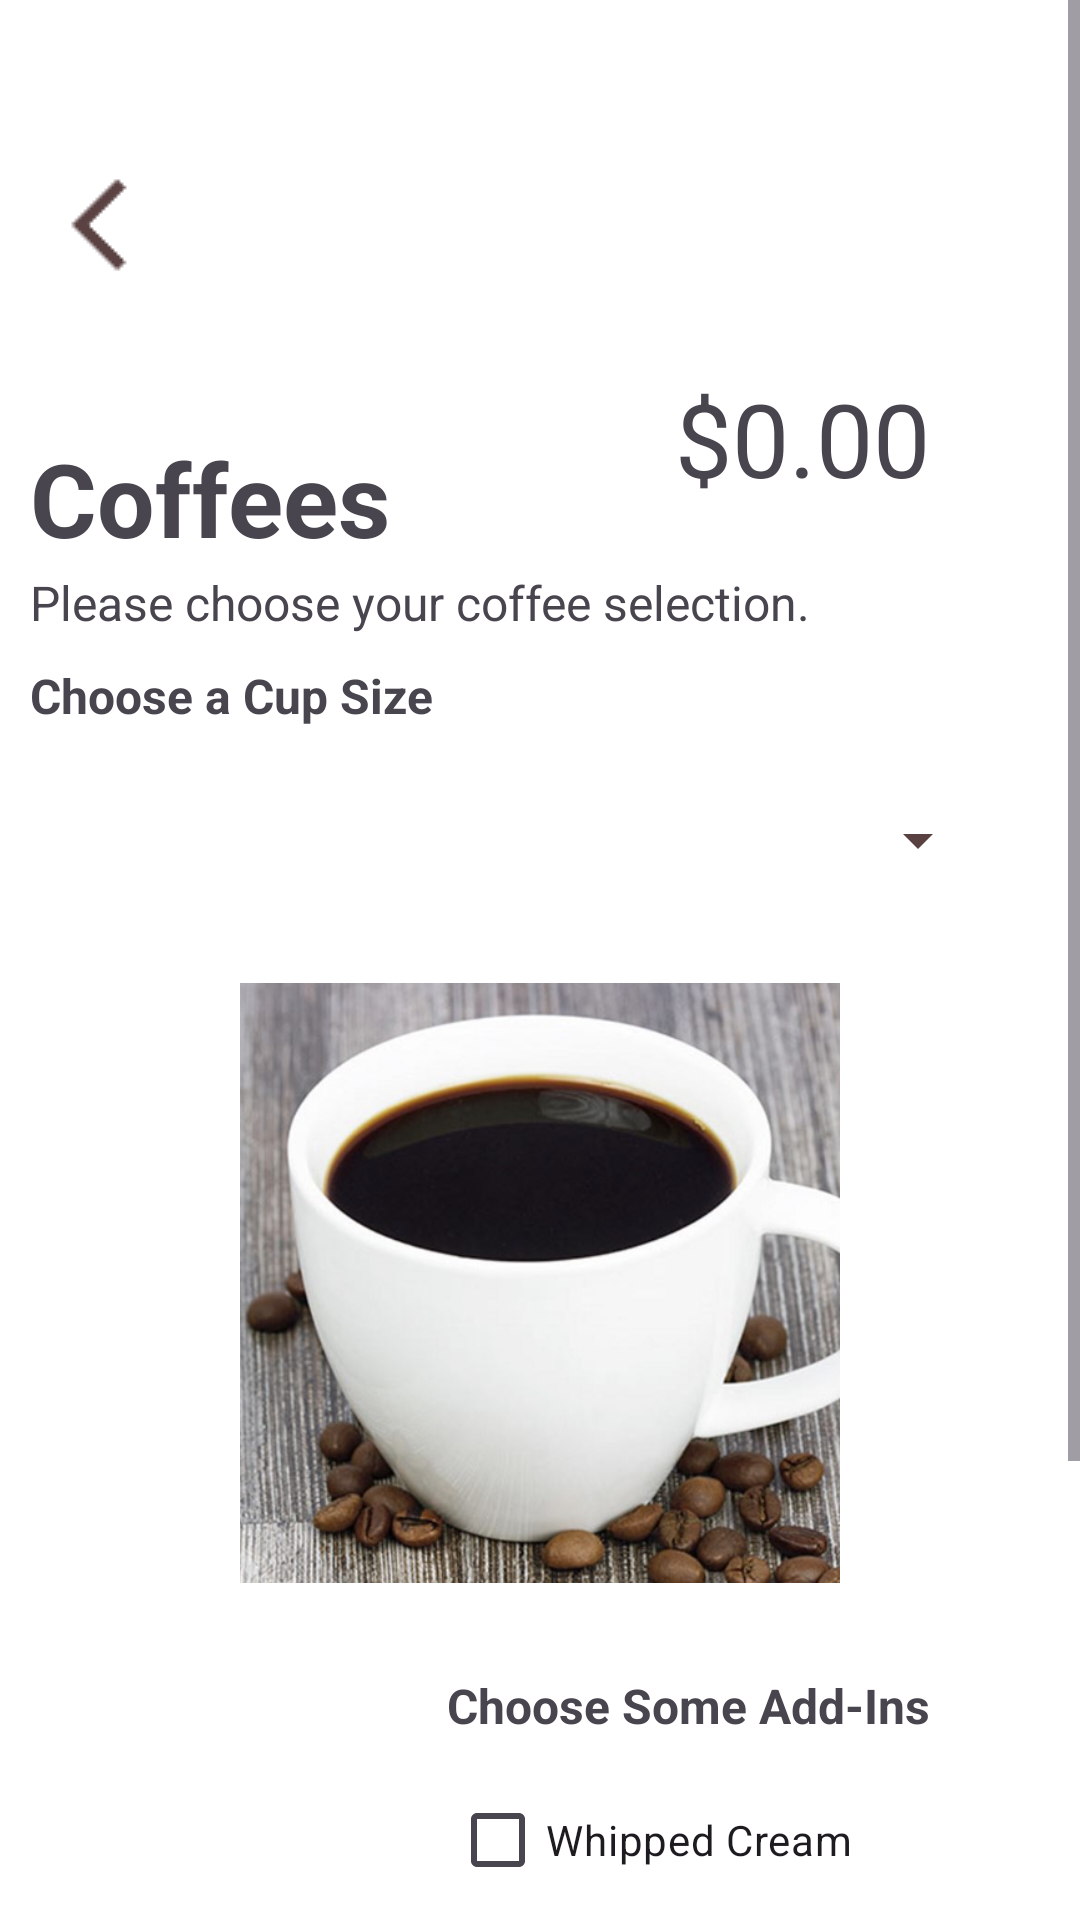

Icons on this 1080w x 1920h Android screen, each with the point to tap as [x,y]:
back: [99,225]
